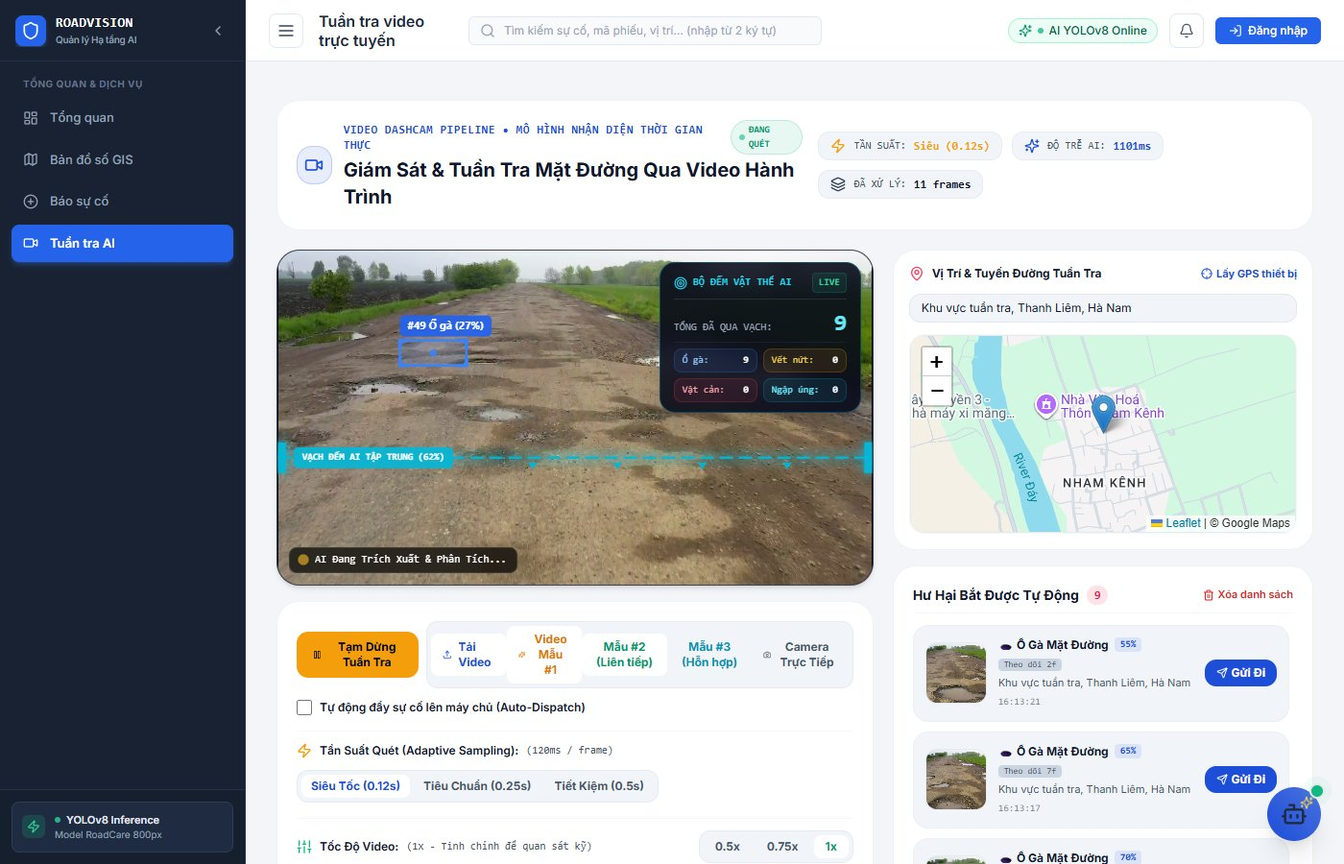ROAD_OBSTACLE: (517, 492, 934, 648)
